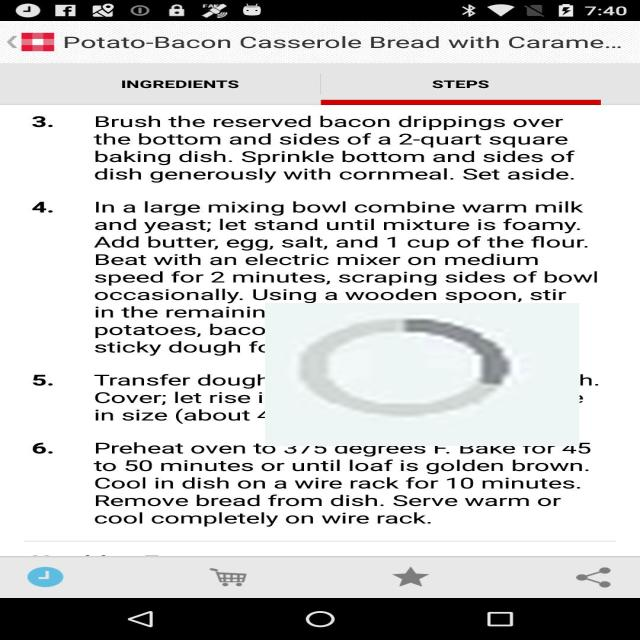misdirection: (265, 303, 579, 446)
